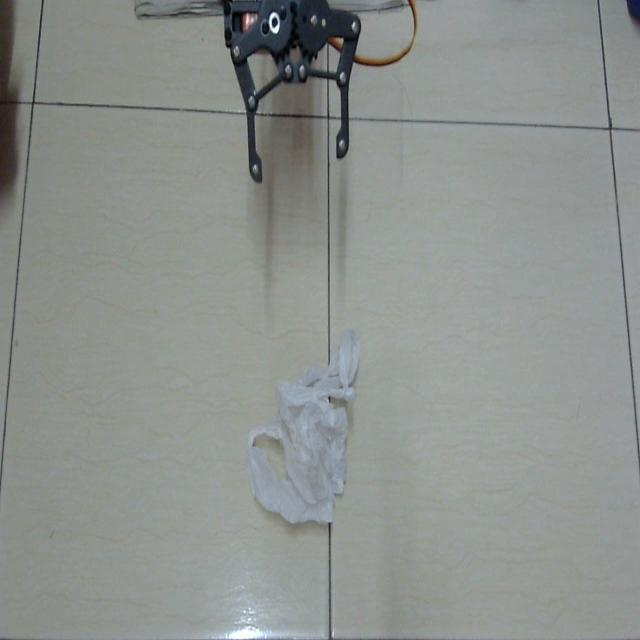Plastic-laydown_0-rotation: (244, 319, 369, 541)
